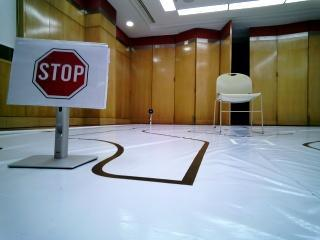stop: (24, 46, 95, 97)
